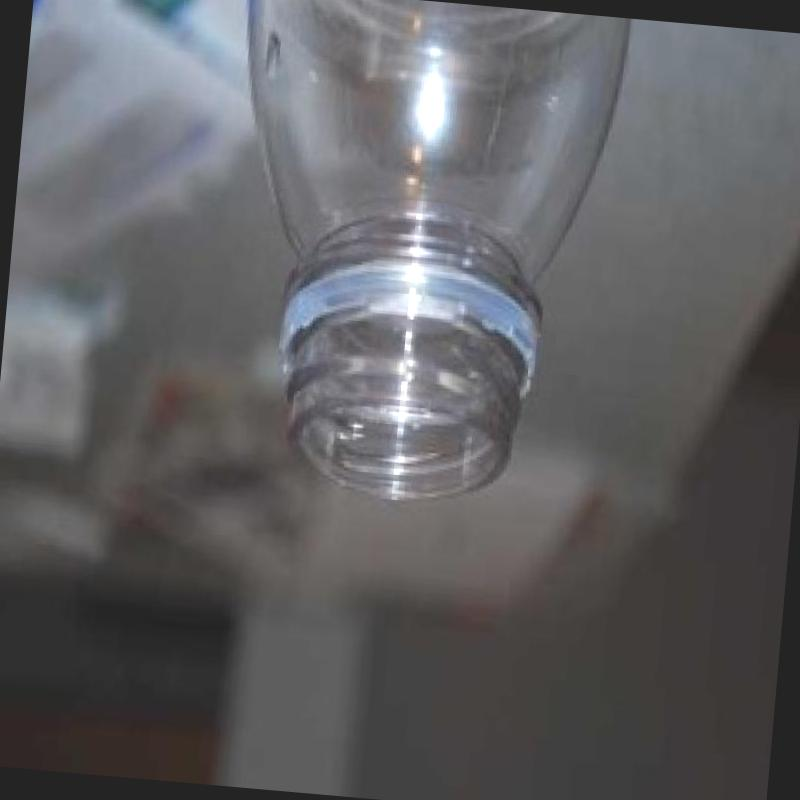botella: (201, 0, 634, 515)
